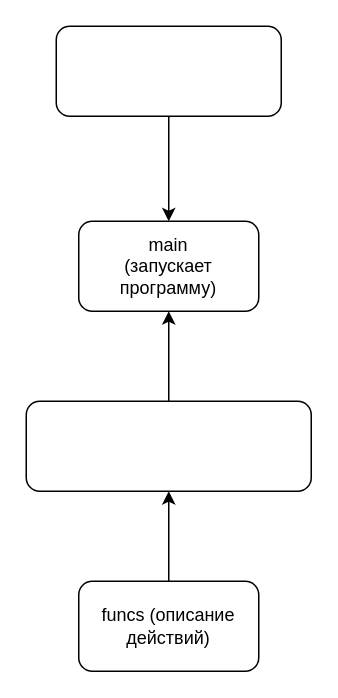
This 338x698 diagram has some shape labels left out. The centre of each missing label's shape, as x and y in pixels:
"fileWork (считывание данных, вывод данных в файл)" goes at pixel 168 70.
"telBook (функции редактирования справочника)" goes at pixel 168 445.
